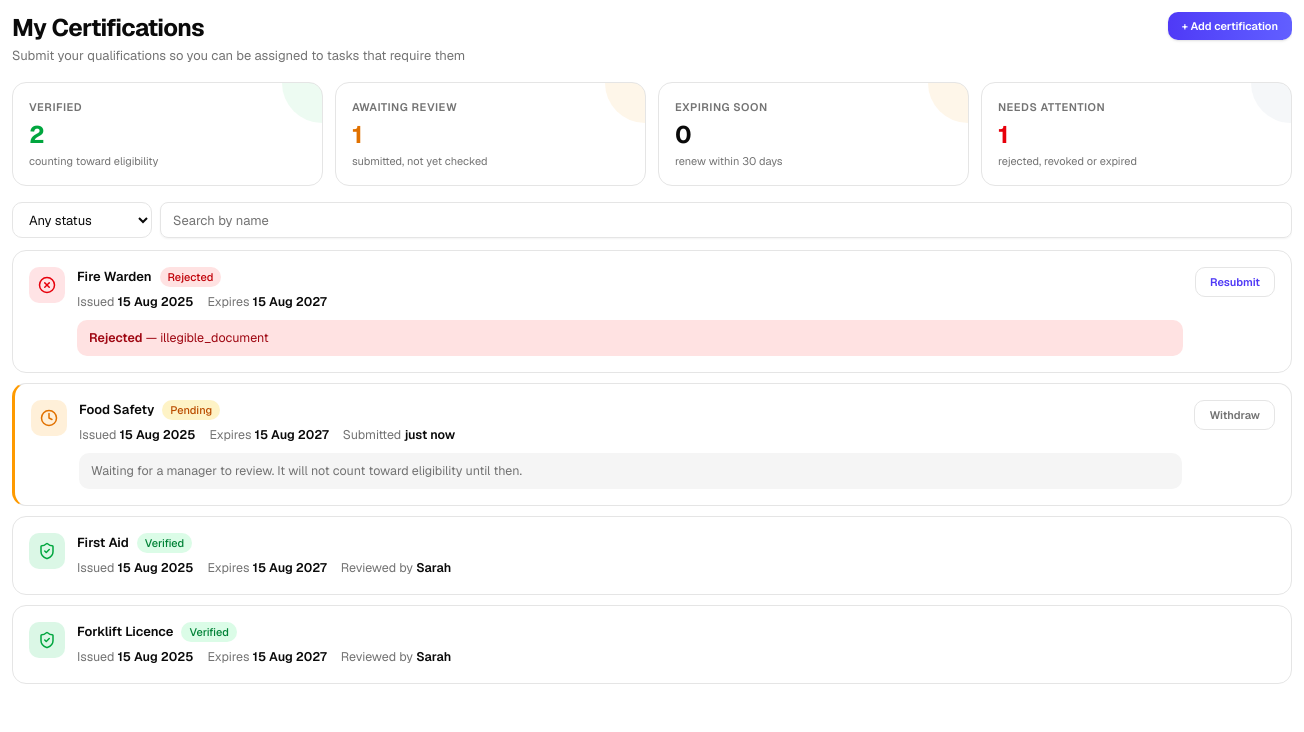
Scenario: narrowing the list › finds a certificate by part of its name
Expected: the text "First Aid" is shown, [77,533,129,553]
Type "fork" into the field named "Search certifications" at [726, 220], box [160,202,1292,238]
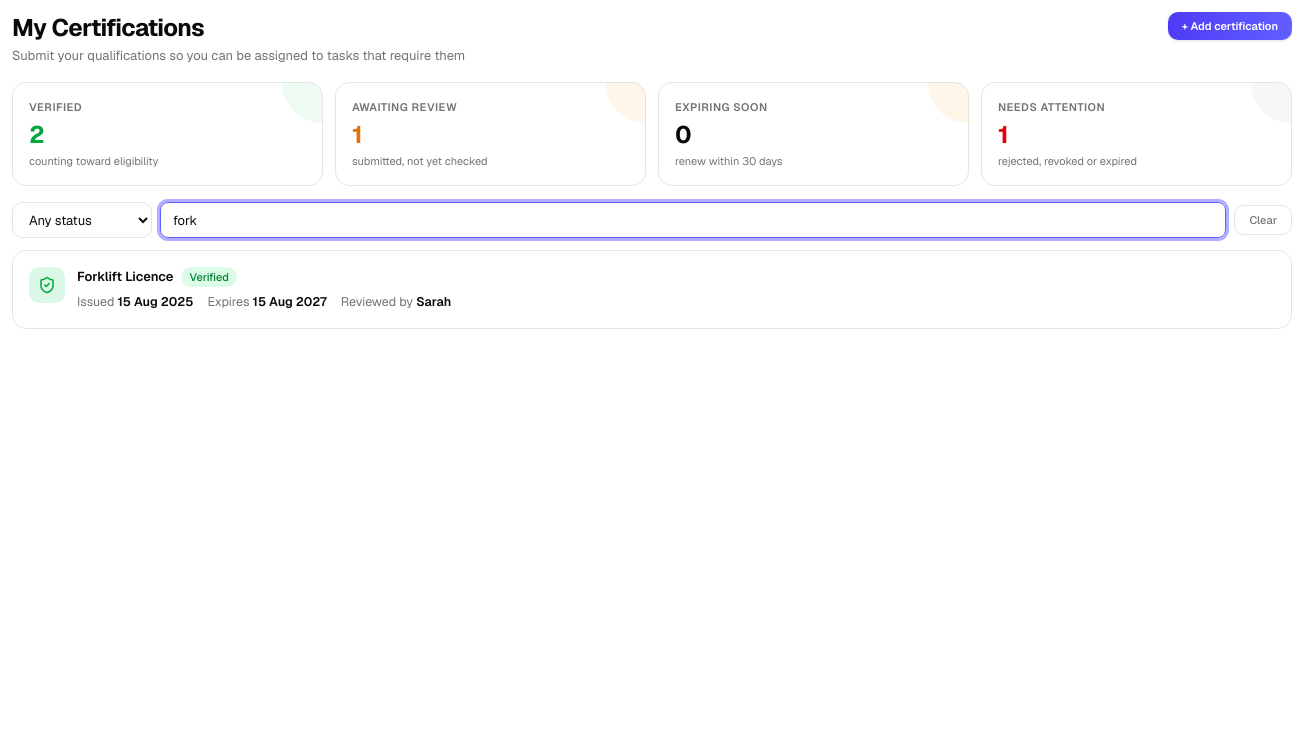
Expected: the text "Forklift Licence" is shown, [77,267,173,287]
Expected: the text "First Aid" is gone
